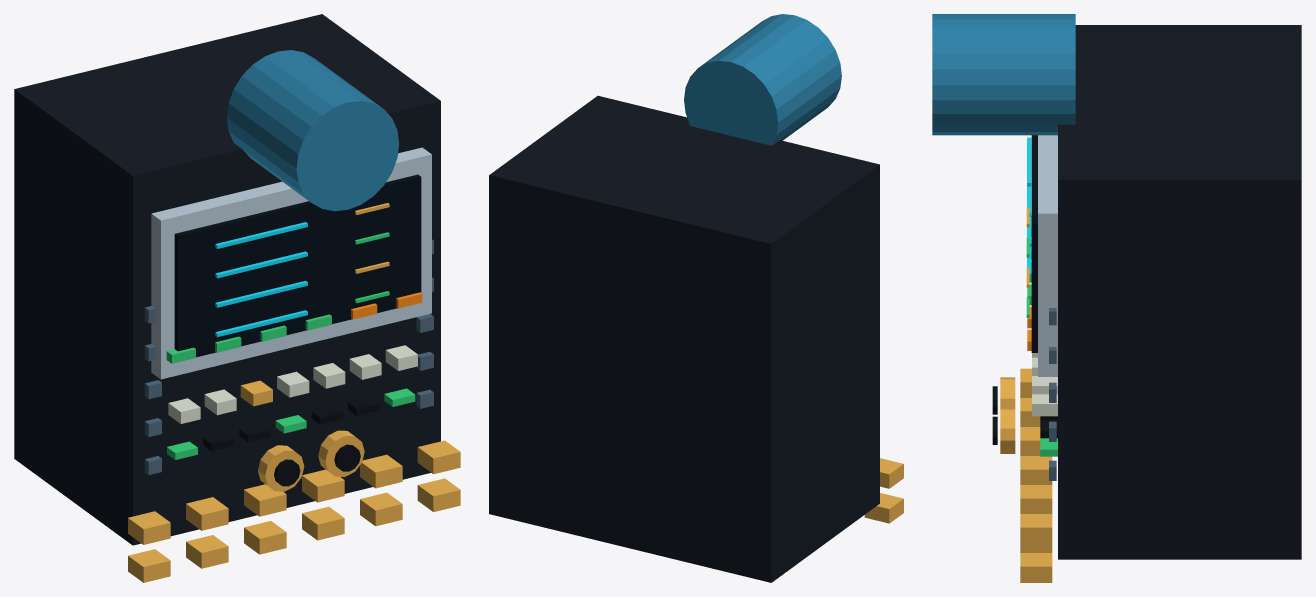
The model's file is 50_L92_BitWearInspectionCamera.fbx.
The picture shows the model from 3 angles, left to right: view 1: azimuth 30°, elevation 25°; view 2: azimuth 150°, elevation 25°; view 3: azimuth 270°, elevation 25°; orthographic projection. The views are drawn at different scales.
Visible parts, largest first — view 1: L92_BitWearInspectionCamera, L92_BitWearInspectionCamera_Part_0011, L92_BitWearInspectionCamera_Part_0009, L92_BitWearInspectionCamera_Part_0014, L92_BitWearInspectionCamera_Part_0012, L92_BitWearInspectionCamera_Part_0010, L92_BitWearInspectionCamera_Part_0013, L92_BitWearInspectionCamera_Part_0015; view 2: L92_BitWearInspectionCamera, L92_BitWearInspectionCamera_Part_0011; view 3: L92_BitWearInspectionCamera, L92_BitWearInspectionCamera_Part_0011, L92_BitWearInspectionCamera_Part_0014, L92_BitWearInspectionCamera_Part_0012.
Part boxes in pixels (bbox=[...]): L92_BitWearInspectionCamera: bbox=[14, 14, 460, 582]; L92_BitWearInspectionCamera_Part_0011: bbox=[227, 50, 399, 211]; L92_BitWearInspectionCamera_Part_0009: bbox=[166, 314, 331, 363]; L92_BitWearInspectionCamera_Part_0014: bbox=[318, 430, 364, 476]; L92_BitWearInspectionCamera_Part_0012: bbox=[258, 445, 304, 491]; L92_BitWearInspectionCamera_Part_0010: bbox=[351, 292, 422, 319]; L92_BitWearInspectionCamera_Part_0013: bbox=[274, 459, 300, 486]; L92_BitWearInspectionCamera_Part_0015: bbox=[334, 444, 360, 471]; L92_BitWearInspectionCamera: bbox=[489, 95, 903, 582]; L92_BitWearInspectionCamera_Part_0011: bbox=[684, 14, 841, 145]; L92_BitWearInspectionCamera: bbox=[1020, 25, 1301, 582]; L92_BitWearInspectionCamera_Part_0011: bbox=[932, 14, 1075, 135]; L92_BitWearInspectionCamera_Part_0014: bbox=[1000, 407, 1015, 453]; L92_BitWearInspectionCamera_Part_0012: bbox=[1000, 377, 1015, 407].
Bounding box in the file's own units: 105 × 150 × 103.
